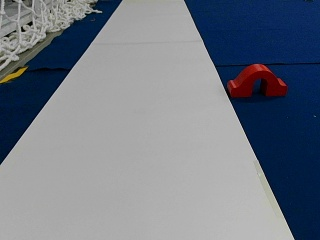bridge: (228, 64, 286, 95)
